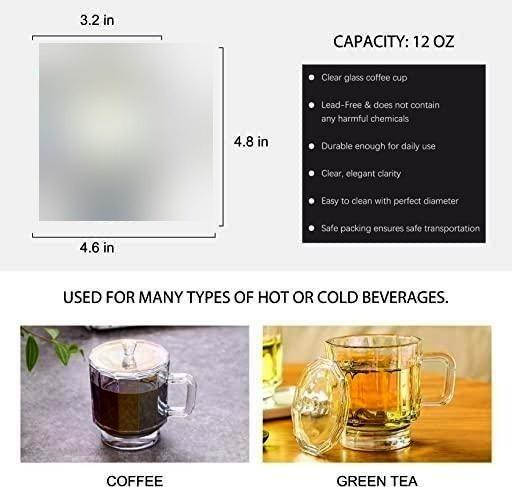glass-mug: (321, 328, 461, 455), (81, 336, 200, 446)
